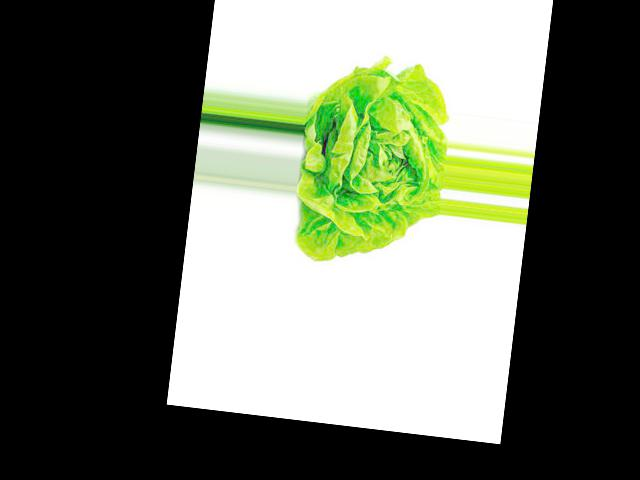lettuce: (320, 75, 408, 200)
